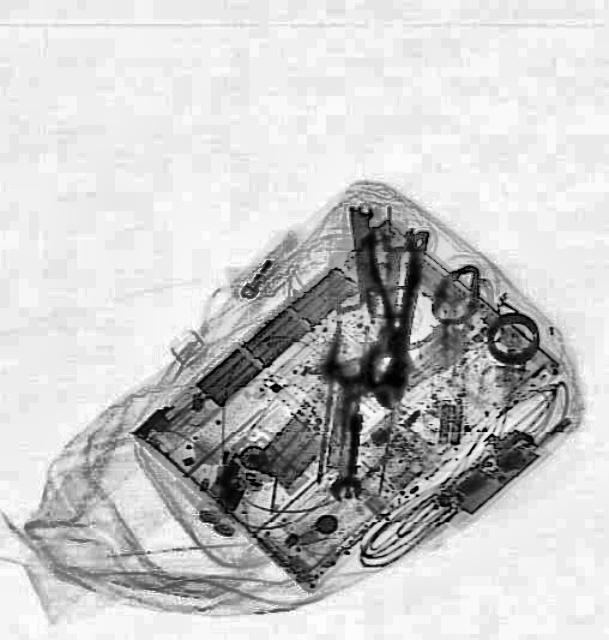Wrench: (329, 356, 371, 500)
